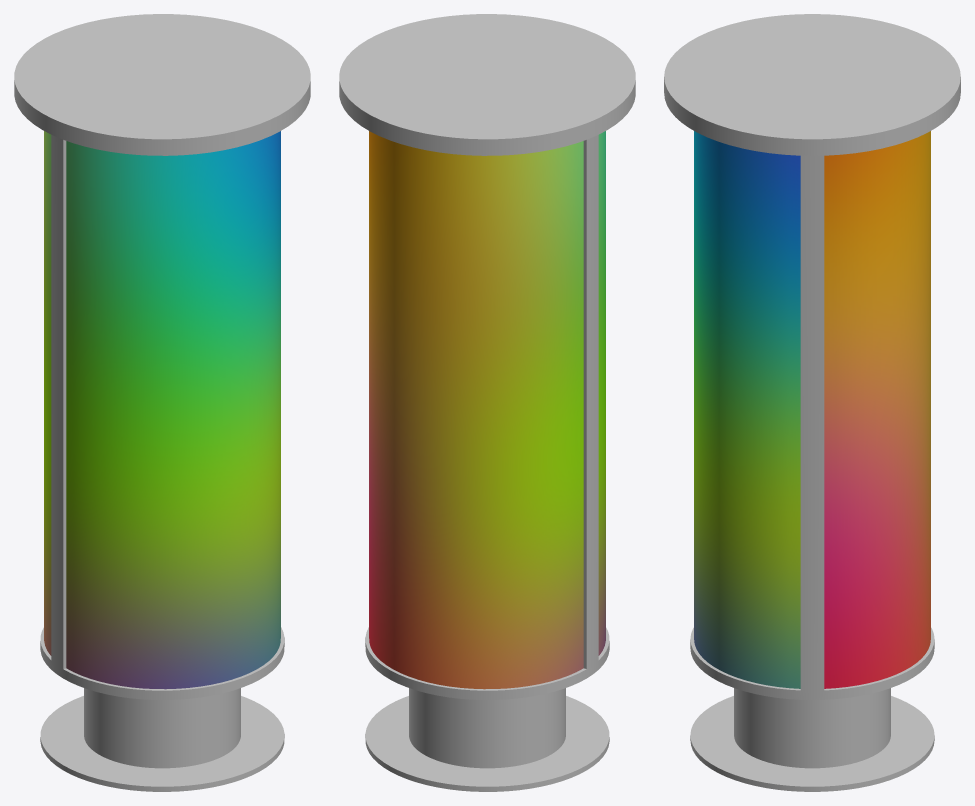
Rendered from advertising_column_01_big.obj.
3 renders of one model, left to right at view 1: azimuth 30°, elevation 25°; view 2: azimuth 150°, elevation 25°; view 3: azimuth 270°, elevation 25°, orthographic.
Parts seen in each view (by area): view 1: advertising_column_01_big_advertising_panels, advertising_column_01_big_metal_rough; view 2: advertising_column_01_big_advertising_panels, advertising_column_01_big_metal_rough; view 3: advertising_column_01_big_advertising_panels, advertising_column_01_big_metal_rough.
Boxes of the visible parts, x1,y1,x2,y2 form: advertising_column_01_big_advertising_panels: [44, 131, 280, 689]; advertising_column_01_big_metal_rough: [14, 14, 310, 791]; advertising_column_01_big_advertising_panels: [369, 131, 605, 689]; advertising_column_01_big_metal_rough: [339, 14, 635, 791]; advertising_column_01_big_advertising_panels: [694, 131, 930, 688]; advertising_column_01_big_metal_rough: [664, 14, 960, 791].
Bounding box in the file's own units: 1.82 × 4.5 × 1.82.
